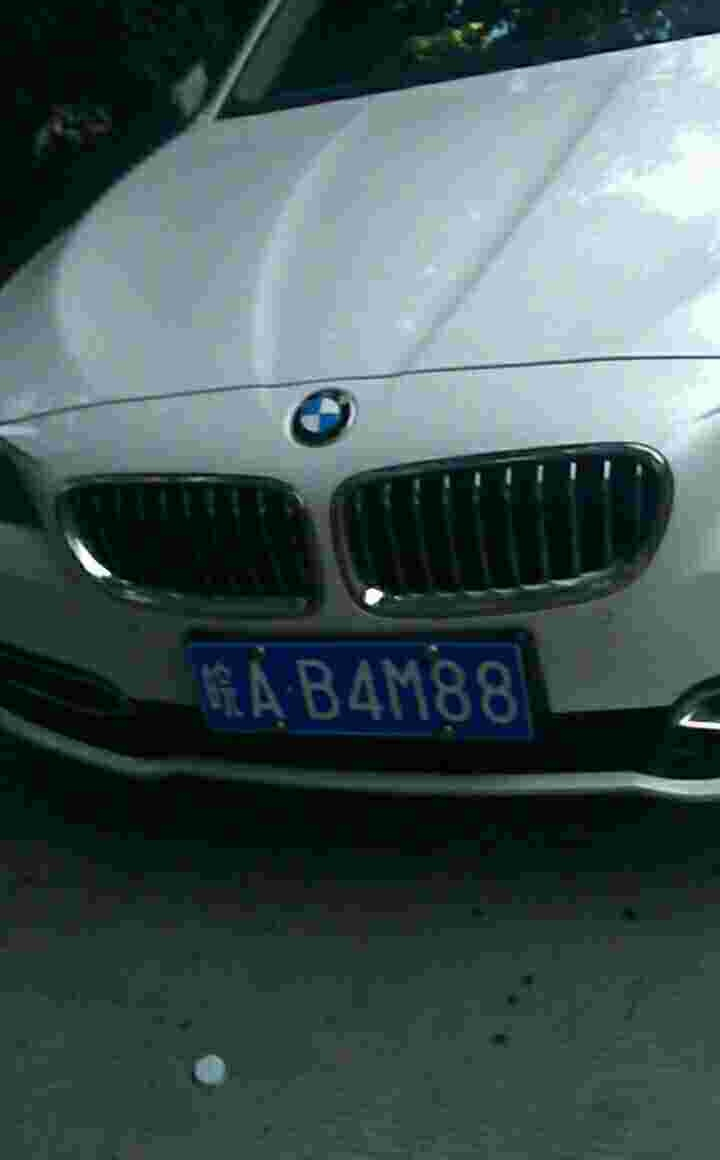license_plate: (181, 637, 534, 733)
